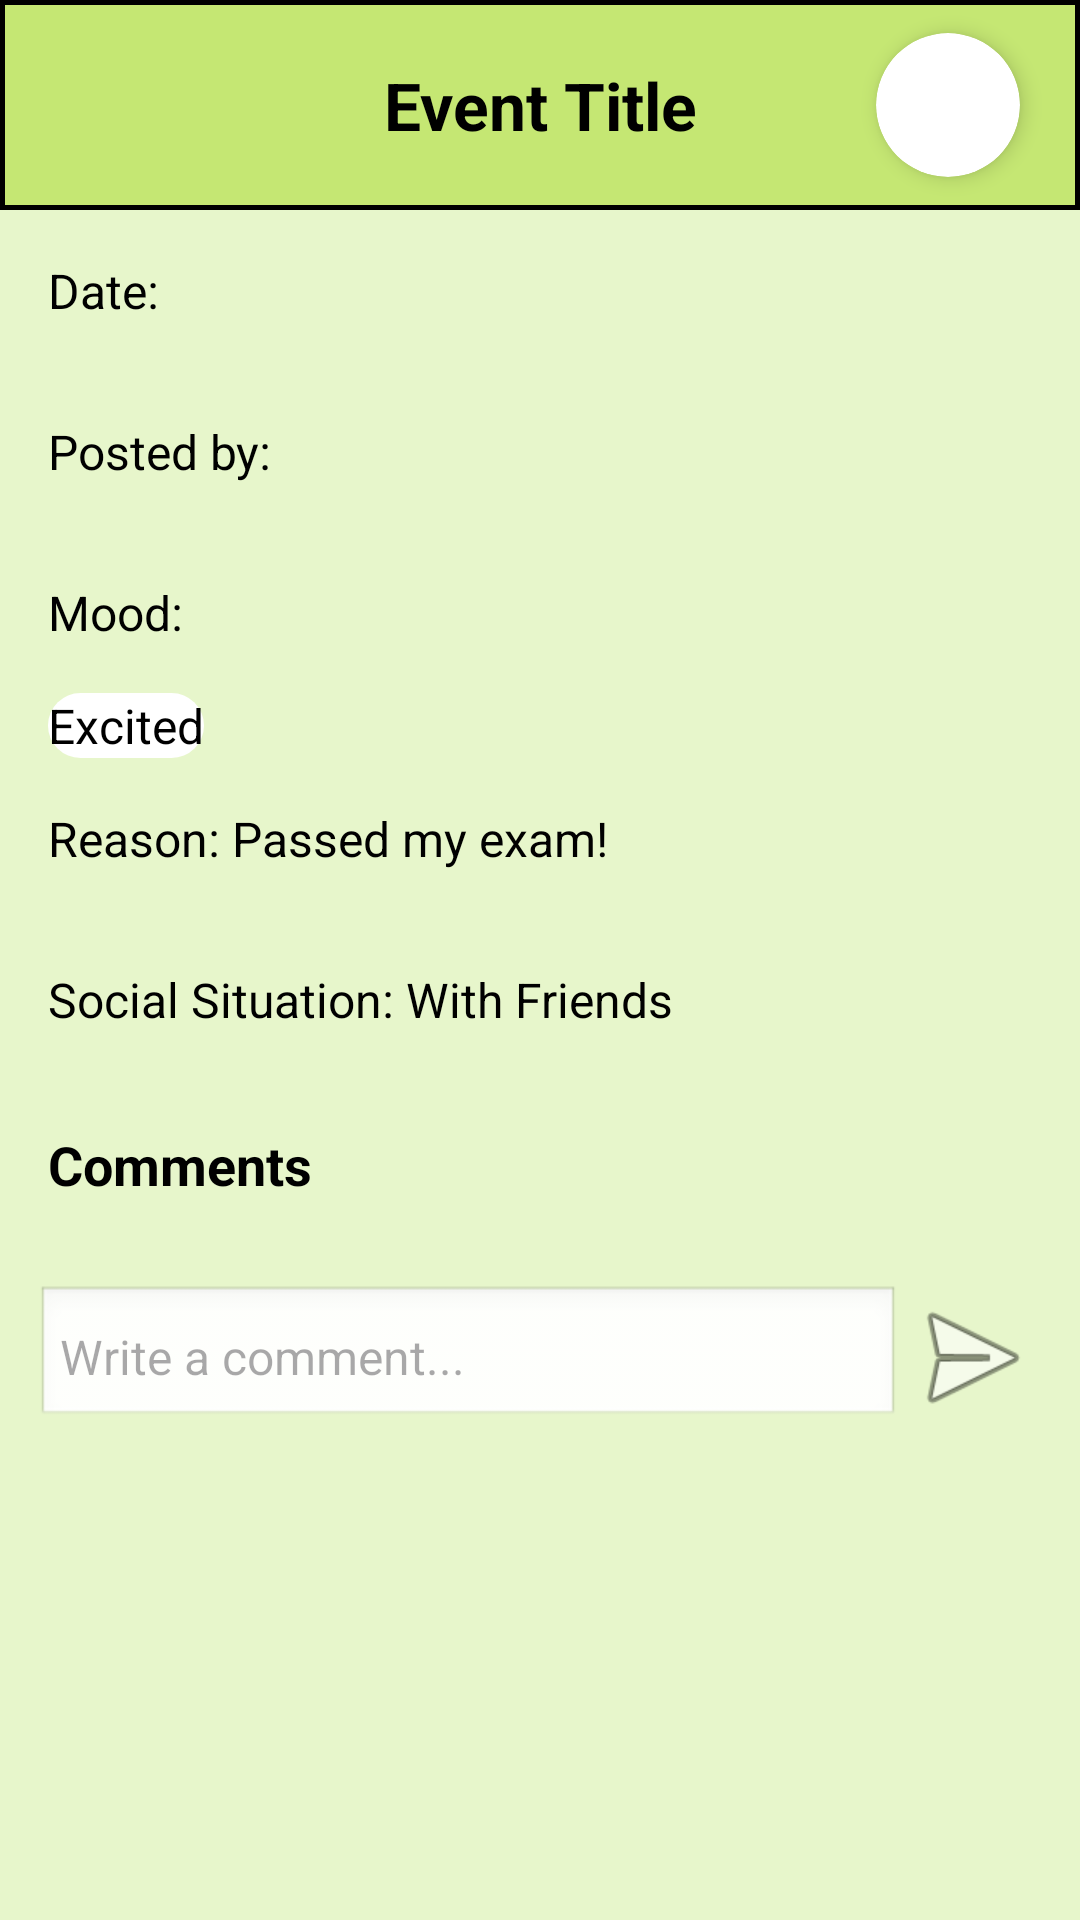

Icons on this 1080px×1920px Android screen, each with the point to tap as (x=x, y=y):
send comment: (x=973, y=1357)
